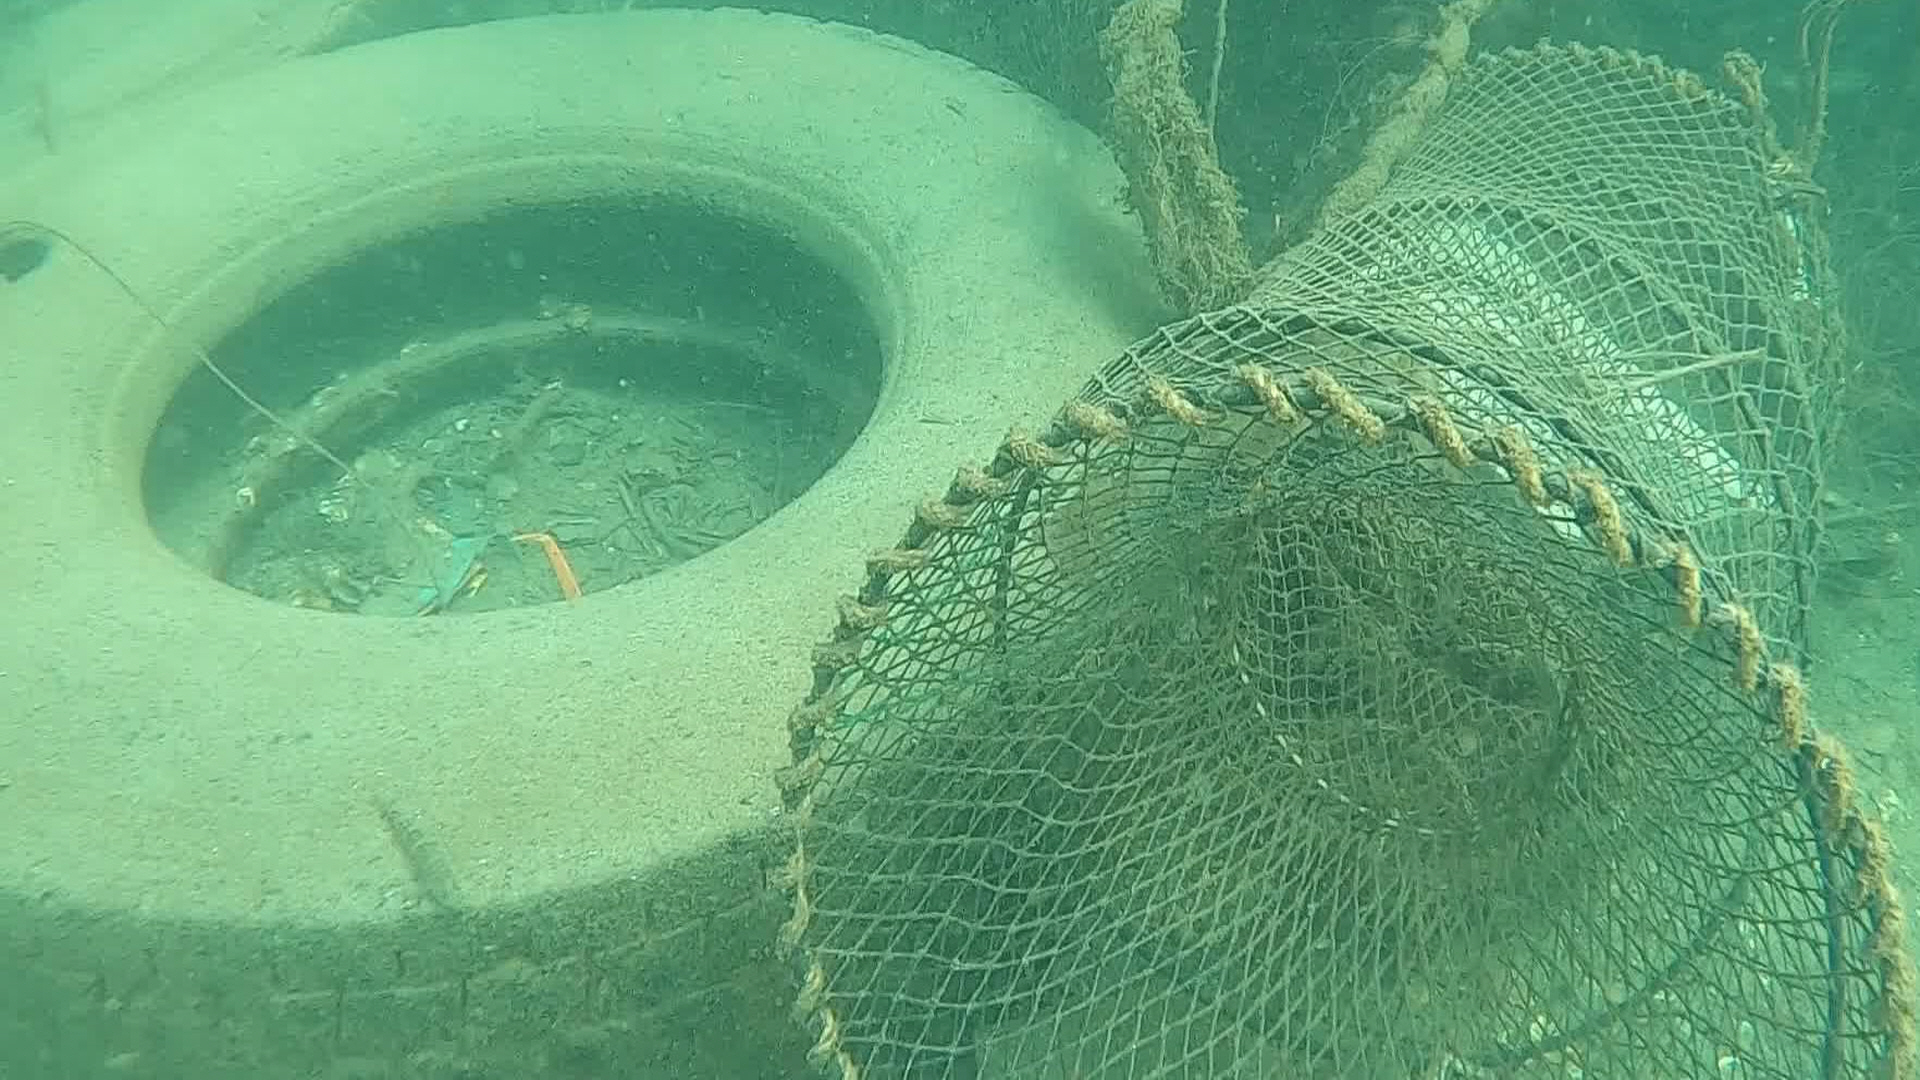bundle of ropes: (1304, 3, 1472, 236), (1718, 0, 1842, 177)
spring fish trap: (765, 42, 1917, 1080)
tire: (0, 0, 1172, 1080)
